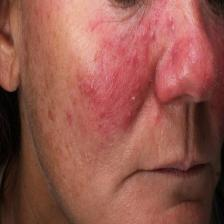Sensitif: (22, 0, 224, 223)
